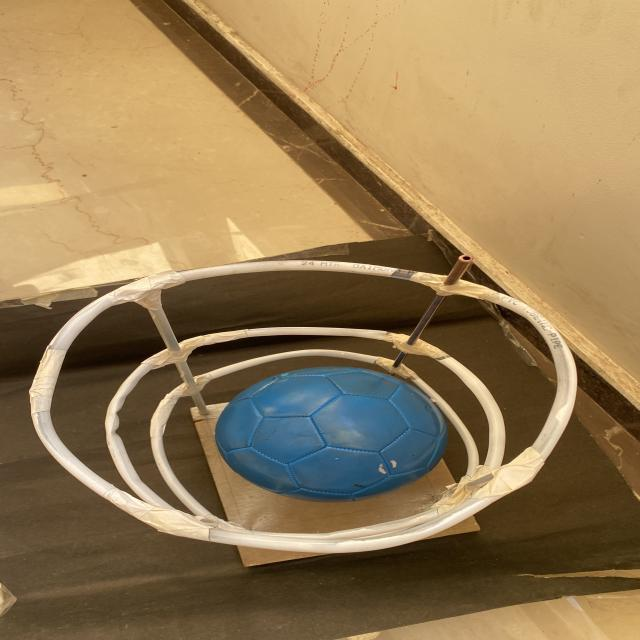blue_ball: (235, 358, 465, 504)
silo: (24, 252, 570, 560)
